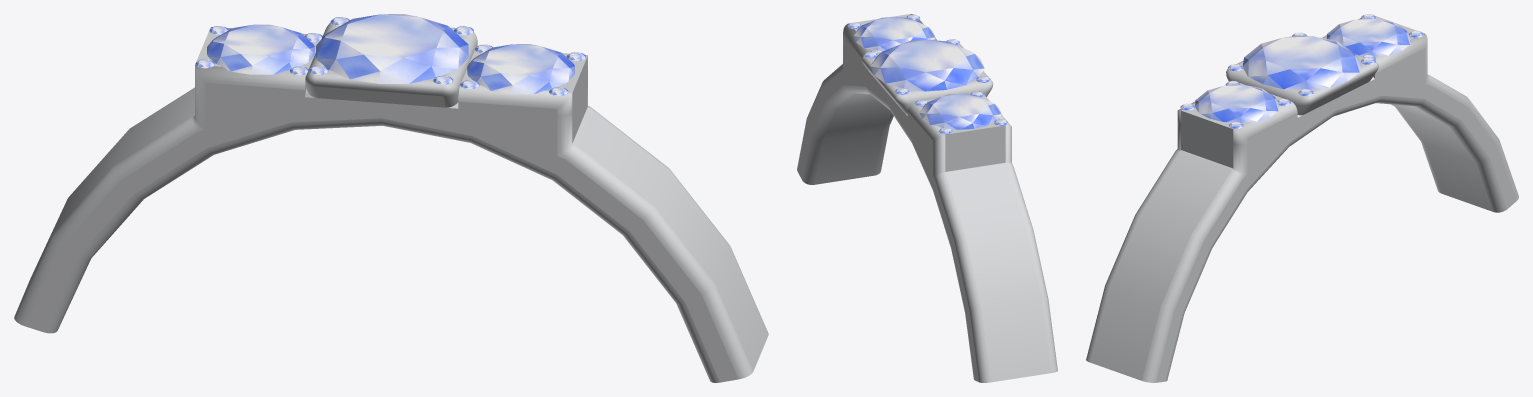
File: ring.dae
The picture shows the model from 3 angles, left to right: view 1: azimuth 30°, elevation 25°; view 2: azimuth 150°, elevation 25°; view 3: azimuth 270°, elevation 25°; orthographic projection. The views are drawn at different scales.
Visible parts, largest first — view 1: SketchUp, group_0, SketchUp_001, SketchUp_002, group_1, group_2; view 2: SketchUp, SketchUp_001, group_0, group_1, group_2, SketchUp_002; view 3: SketchUp, SketchUp_001, group_0, group_2, group_1, SketchUp_002.
Part boxes in pixels (<box>): SketchUp: <box>14,27,768,382</box>; group_0: <box>316,14,468,83</box>; SketchUp_001: <box>43,88,719,382</box>; SketchUp_002: <box>305,22,477,107</box>; group_1: <box>207,24,314,74</box>; group_2: <box>467,44,574,94</box>; SketchUp: <box>797,14,1057,382</box>; SketchUp_001: <box>802,85,974,379</box>; group_0: <box>870,39,984,91</box>; group_1: <box>919,93,1001,129</box>; group_2: <box>853,17,935,51</box>; SketchUp_002: <box>861,44,993,113</box>; SketchUp: <box>1086,16,1518,382</box>; SketchUp_001: <box>1165,95,1507,381</box>; group_0: <box>1242,35,1361,89</box>; group_2: <box>1195,84,1278,122</box>; group_1: <box>1326,18,1410,56</box>; SketchUp_002: <box>1226,55,1378,115</box>.
Bounding box in the file's own units: 0.1939 × 0.17 × 0.101.
Materials: 3 (1 with a texture image).
